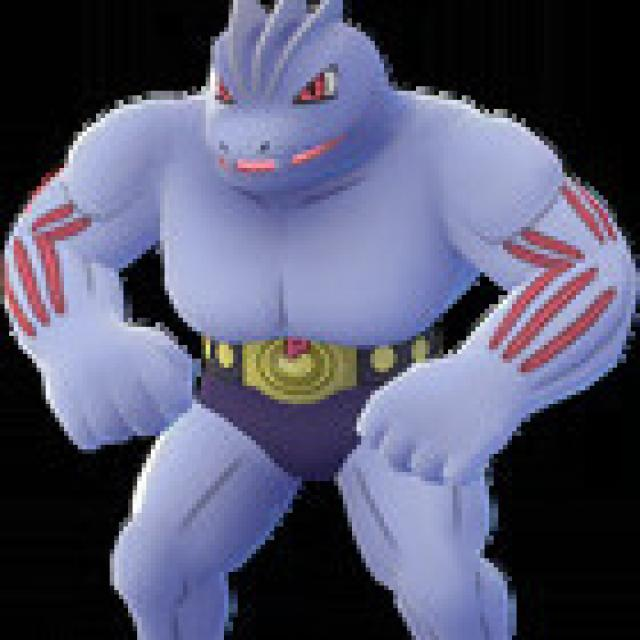Machoke: (12, 0, 639, 640)
